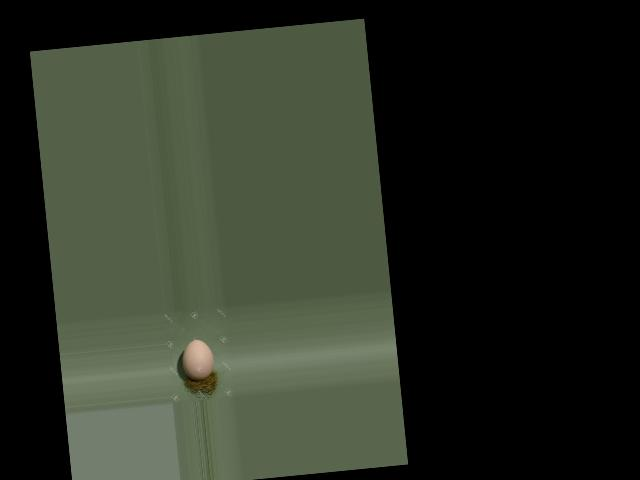egg: (180, 338, 215, 381)
